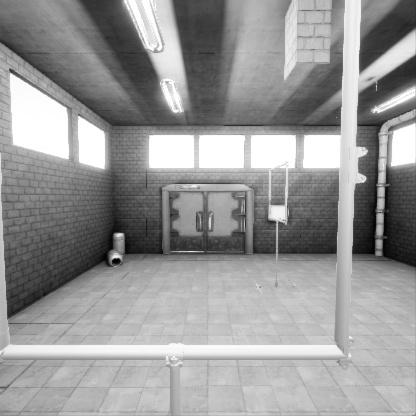gate: (20, 93, 369, 416), (269, 194, 288, 256)
